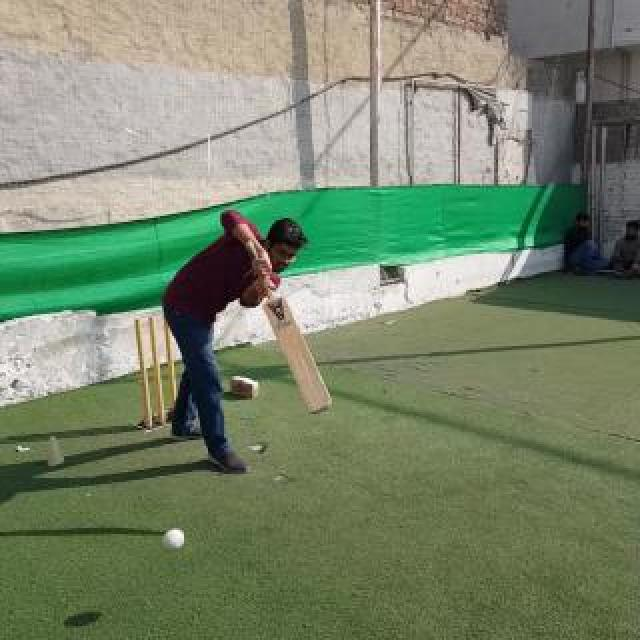ball: (162, 528, 186, 550)
bat: (246, 240, 332, 416)
